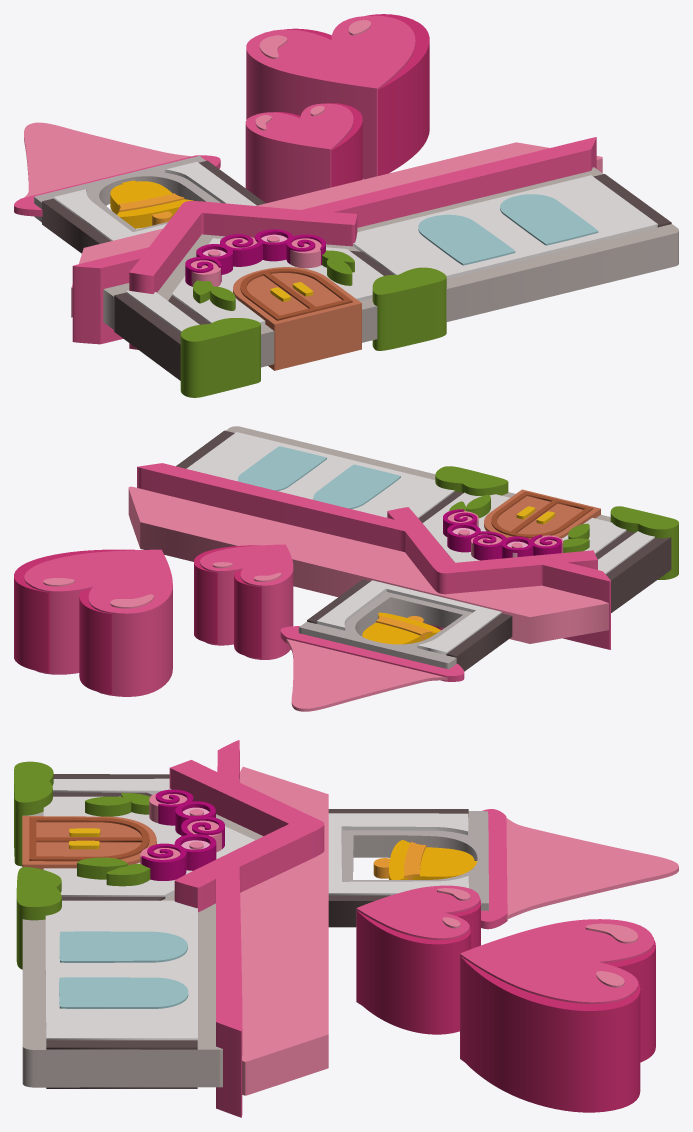
File: emoji_u1f492.glb
3 renders of one model, top to bottom at view 1: azimuth 30°, elevation 25°; view 2: azimuth 150°, elevation 25°; view 3: azimuth 270°, elevation 25°, orthographic. The views are drawn at different scales.
Parts seen in each view (by area): view 1: emoji_u1f492; view 2: emoji_u1f492; view 3: emoji_u1f492.
Part boxes in pixels (<box>): emoji_u1f492: <box>14,14,678,397</box>; emoji_u1f492: <box>14,426,678,711</box>; emoji_u1f492: <box>14,740,678,1117</box>.
Size of the model in its own units: 0.0337 by 0.0058 by 0.0321.
